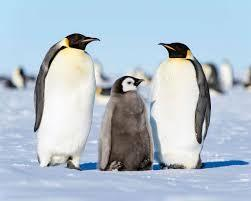emporer: (21, 24, 109, 173), (137, 34, 222, 176)
